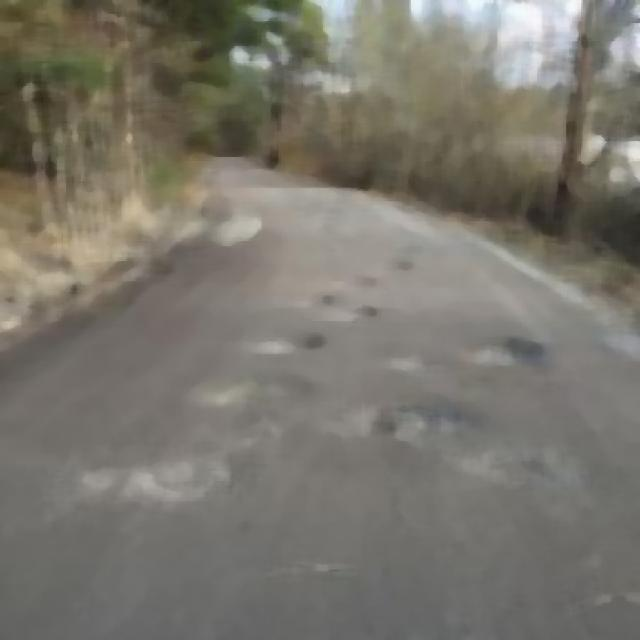Pothole: (94, 462, 254, 489), (435, 342, 550, 372), (378, 409, 464, 440), (325, 286, 369, 323), (250, 335, 312, 357)
